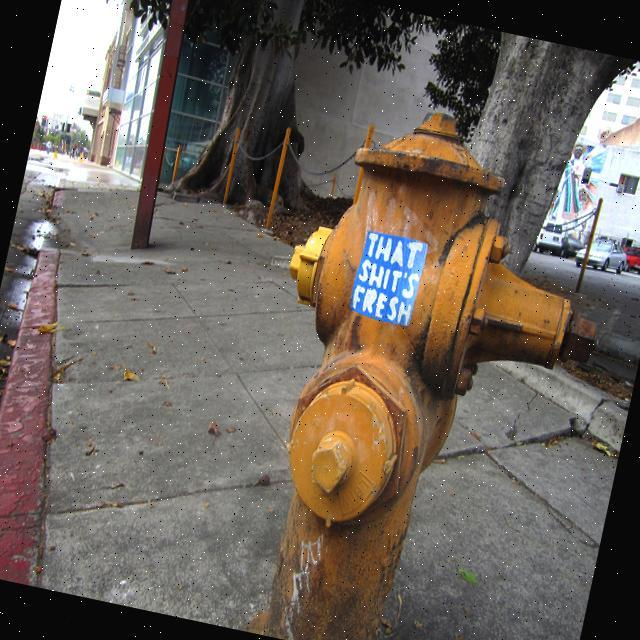fire_hydrant: (215, 80, 637, 640)
